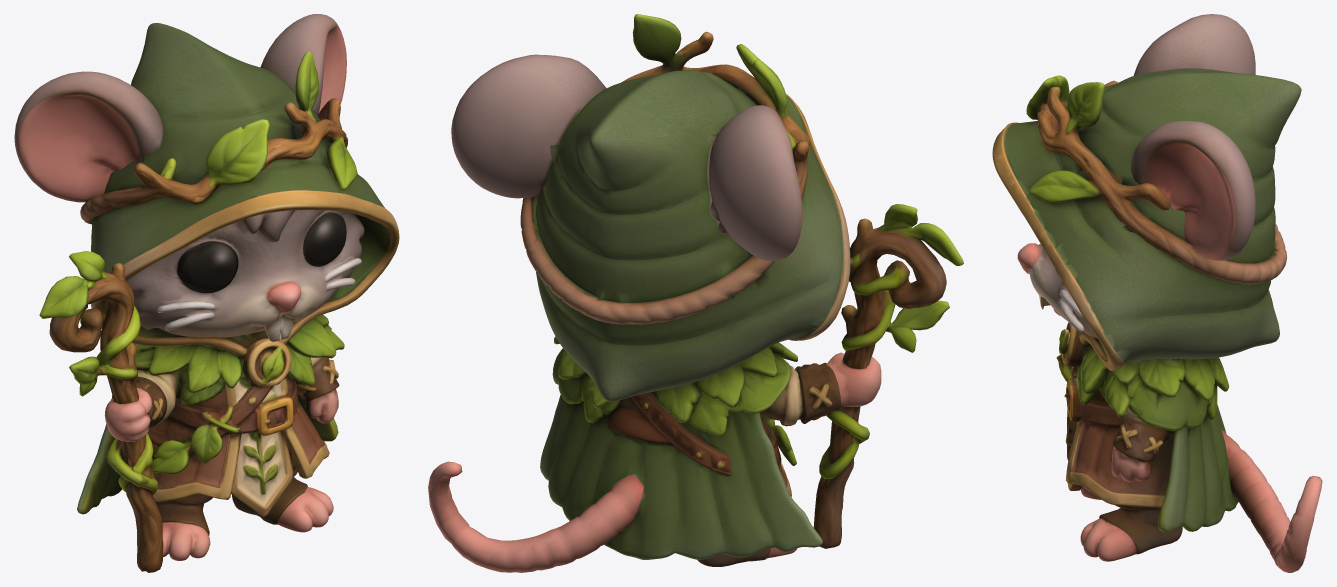
Rendered from druid.glb.
3 renders of one model, left to right at view 1: azimuth 30°, elevation 25°; view 2: azimuth 150°, elevation 25°; view 3: azimuth 270°, elevation 25°, orthographic. The views are drawn at different scales.
Visible parts, largest first — view 1: tripo_part_1, tripo_part_16, tripo_part_2, tripo_part_8, tripo_part_0, tripo_part_3, tripo_part_5, tripo_part_4, tripo_part_6, tripo_part_10, tripo_part_17, tripo_part_7 (+7 smaller); view 2: tripo_part_0, tripo_part_16, tripo_part_10, tripo_part_3, tripo_part_5, tripo_part_8, tripo_part_11, tripo_part_4, tripo_part_17, tripo_part_12, tripo_part_15, tripo_part_6 (+1 smaller); view 3: tripo_part_0, tripo_part_16, tripo_part_3, tripo_part_10, tripo_part_4, tripo_part_2, tripo_part_11, tripo_part_8, tripo_part_6, tripo_part_7, tripo_part_9, tripo_part_1.
Part boxes in pixels (left/top/right/bottom): tripo_part_1: left=126, top=210, right=364, bottom=342; tripo_part_16: left=104, top=23, right=320, bottom=193; tripo_part_2: left=147, top=371, right=329, bottom=516; tripo_part_8: left=14, top=71, right=163, bottom=202; tripo_part_0: left=77, top=139, right=384, bottom=514; tripo_part_3: left=80, top=51, right=357, bottom=224; tripo_part_5: left=39, top=251, right=140, bottom=403; tripo_part_4: left=134, top=314, right=344, bottom=405; tripo_part_6: left=91, top=188, right=399, bottom=357; tripo_part_10: left=260, top=14, right=346, bottom=116; tripo_part_17: left=106, top=433, right=163, bottom=572; tripo_part_7: left=232, top=477, right=333, bottom=532; tripo_part_0: left=536, top=102, right=842, bottom=559; tripo_part_16: left=536, top=70, right=757, bottom=304; tripo_part_10: left=451, top=54, right=606, bottom=198; tripo_part_3: left=520, top=14, right=809, bottom=324; tripo_part_5: left=841, top=204, right=963, bottom=370; tripo_part_8: left=702, top=105, right=802, bottom=260; tripo_part_11: left=428, top=458, right=644, bottom=572; tripo_part_4: left=552, top=336, right=797, bottom=436; tripo_part_17: left=813, top=406, right=869, bottom=548; tripo_part_12: left=794, top=352, right=881, bottom=423; tripo_part_15: left=630, top=392, right=733, bottom=475; tripo_part_6: left=785, top=93, right=853, bottom=340; tripo_part_0: left=1005, top=121, right=1279, bottom=532; tripo_part_16: left=1077, top=68, right=1301, bottom=263; tripo_part_3: left=1026, top=75, right=1287, bottom=284; tripo_part_10: left=1131, top=121, right=1255, bottom=260; tripo_part_4: left=1059, top=322, right=1229, bottom=431; tripo_part_2: left=1064, top=365, right=1172, bottom=510; tripo_part_11: left=1221, top=429, right=1322, bottom=572; tripo_part_8: left=1133, top=14, right=1255, bottom=75; tripo_part_6: left=992, top=122, right=1131, bottom=370; tripo_part_7: left=1080, top=508, right=1182, bottom=561; tripo_part_9: left=1111, top=408, right=1172, bottom=482; tripo_part_1: left=1017, top=182, right=1122, bottom=352.
Size of the model in its own units: 0.8569 by 0.9805 by 0.6252.
Materials: 22 (22 with a texture image).
